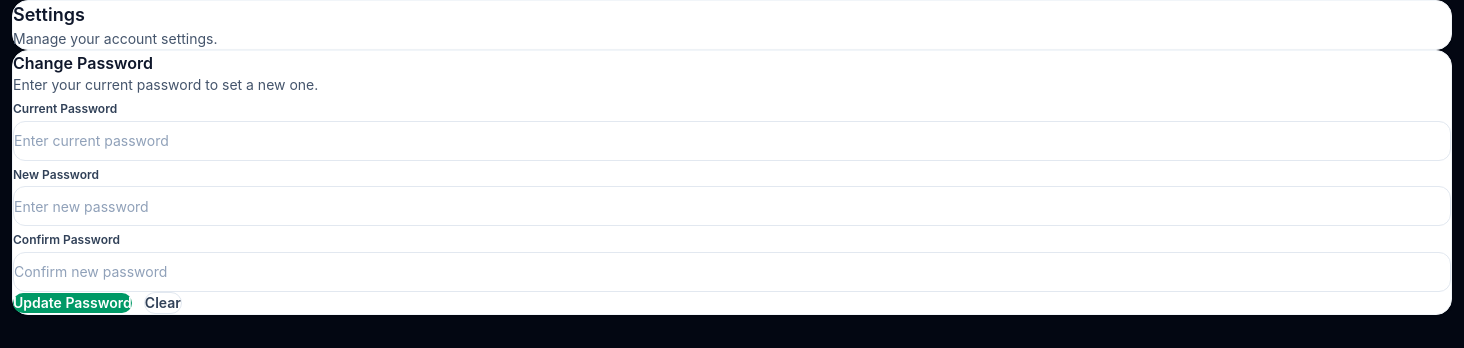
Test: SettingsPage › validates min length for new password
This screenshot has width=1464, height=348.
Type "oldpass" into the password field labelled "Current Password" at (732, 141), box [13,121,1451,161]
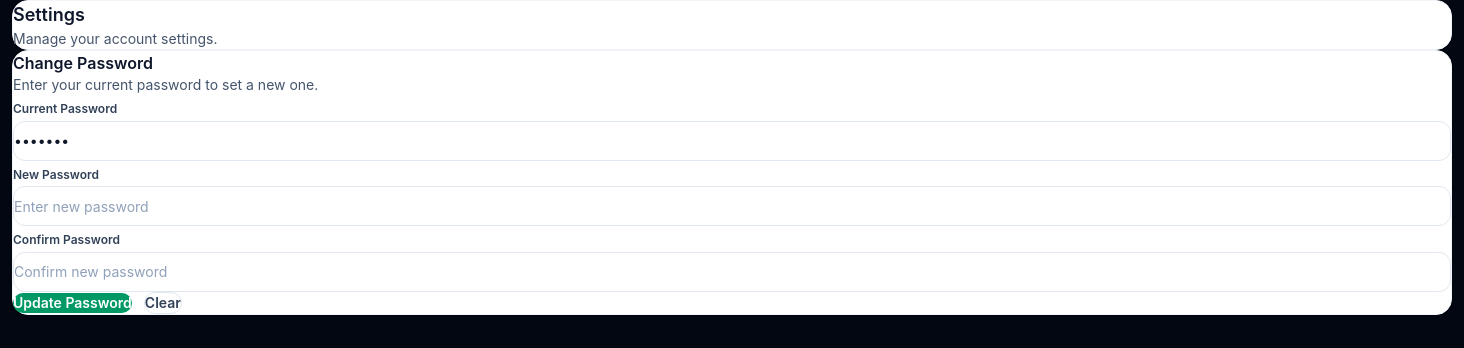
Type "123" into the password field labelled "New Password" at (732, 206), box [13,186,1451,226]
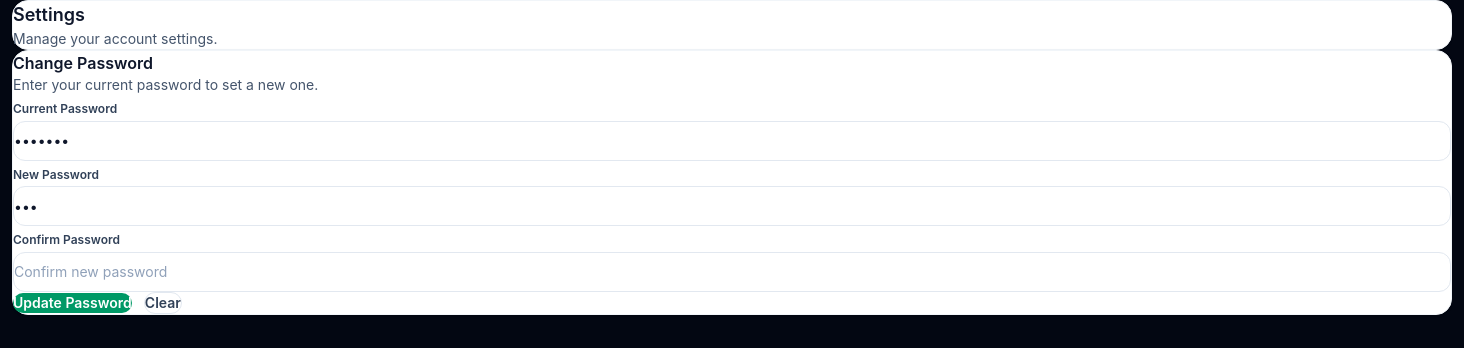
Type "123" into the password field named "Confirm new password" at (732, 272), box [13,252,1451,292]
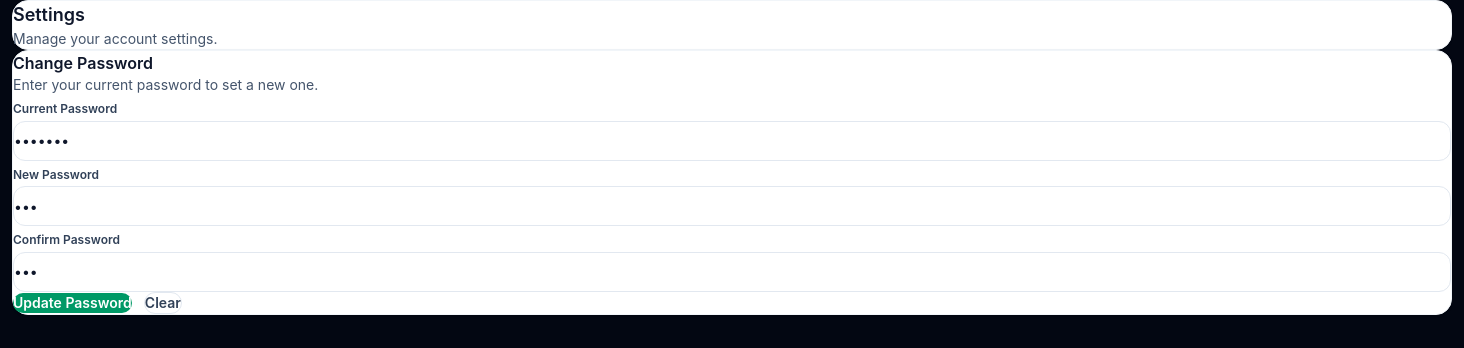
Click the button "Update Password" at (72, 303), box [13,293,132,313]
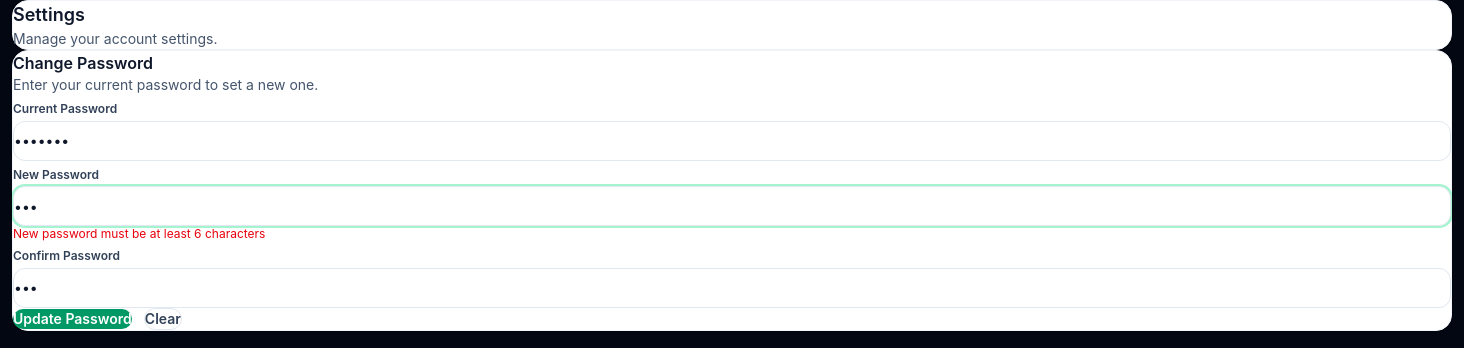
Now the text "New password must be at least 6 characters" is shown, box [13,226,265,241]
